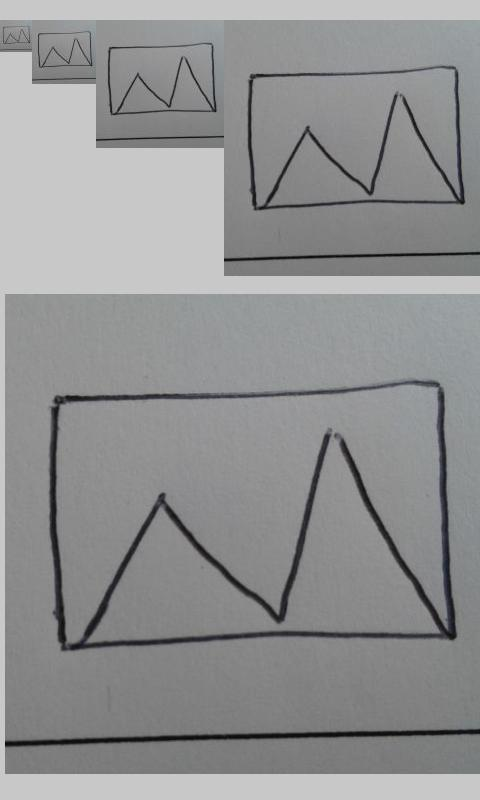image_view: (46, 379, 458, 652), (244, 65, 468, 212), (106, 42, 217, 116), (37, 31, 93, 68), (2, 25, 31, 45)
